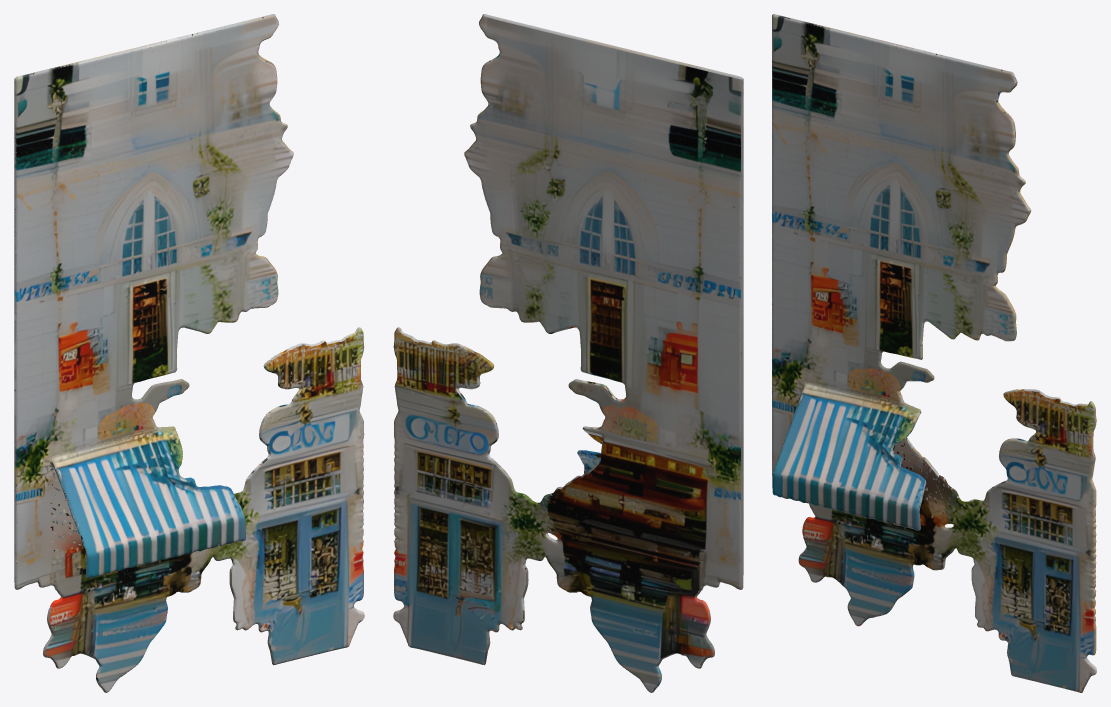
The model's file is hunyuan.glb.
3 renders of one model, left to right at view 1: azimuth 30°, elevation 25°; view 2: azimuth 150°, elevation 25°; view 3: azimuth 330°, elevation 25°, orthographic. The views are drawn at different scales.
Visible parts, largest first — view 1: textured_mesh; view 2: textured_mesh; view 3: textured_mesh.
Boxes of the visible parts, x1,y1,x2,y2 form: textured_mesh: [14, 14, 364, 692]; textured_mesh: [393, 14, 743, 692]; textured_mesh: [772, 14, 1096, 692].
Size of the model in its own units: 1.12 by 1.99 by 0.2114.
1 material, 1 textured.
